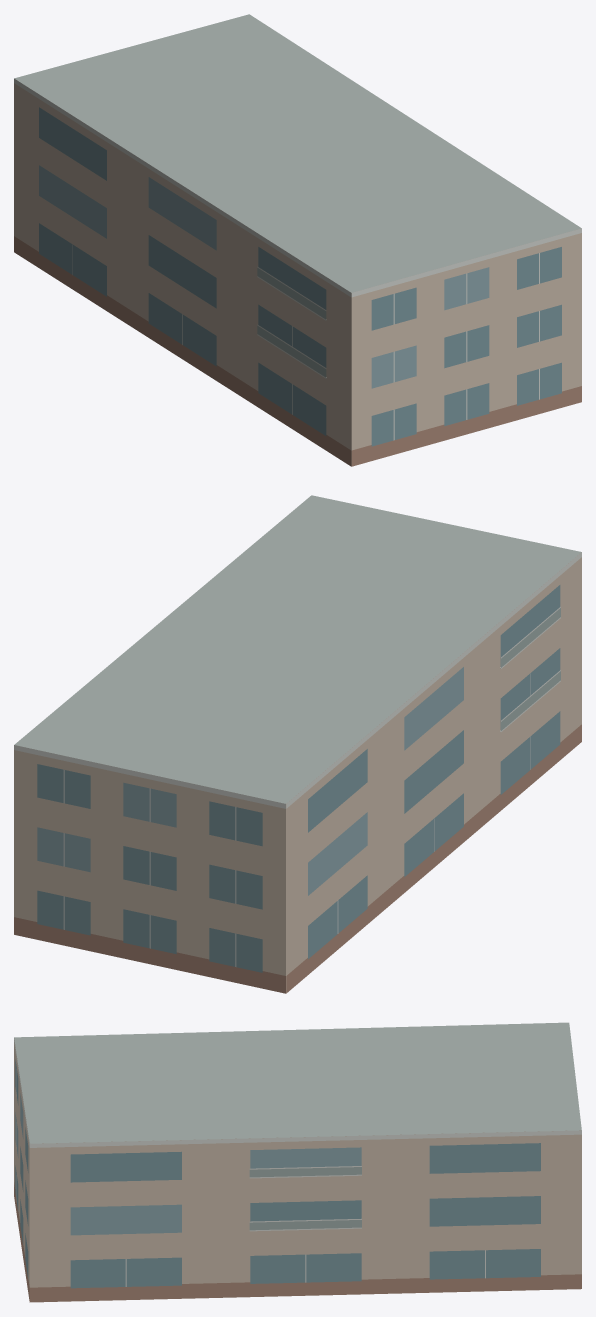
File: survey-upis-32923510.glb
The picture shows the model from 3 angles, top to bottom: view 1: azimuth 30°, elevation 25°; view 2: azimuth 150°, elevation 25°; view 3: azimuth 270°, elevation 25°; orthographic projection. The views are drawn at different scales.
Visible parts, largest first — view 1: survey-upis-32923510.tmp; view 2: survey-upis-32923510.tmp; view 3: survey-upis-32923510.tmp.
Part boxes in pixels (left/top/right/bottom): survey-upis-32923510.tmp: left=14, top=14, right=581, bottom=466; survey-upis-32923510.tmp: left=14, top=495, right=581, bottom=993; survey-upis-32923510.tmp: left=14, top=1022, right=581, bottom=1302.
Bounding box in the file's own units: 15.01 × 9.15 × 29.69.
